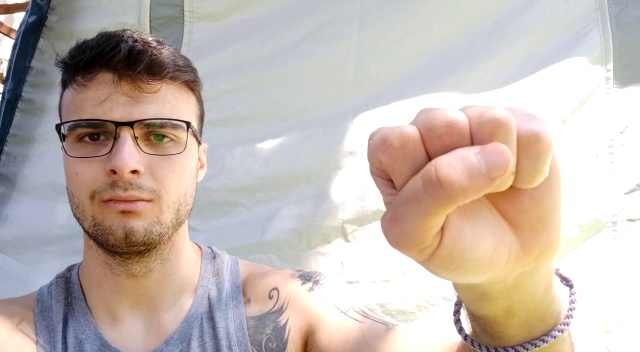Fist: (367, 103, 563, 269)
